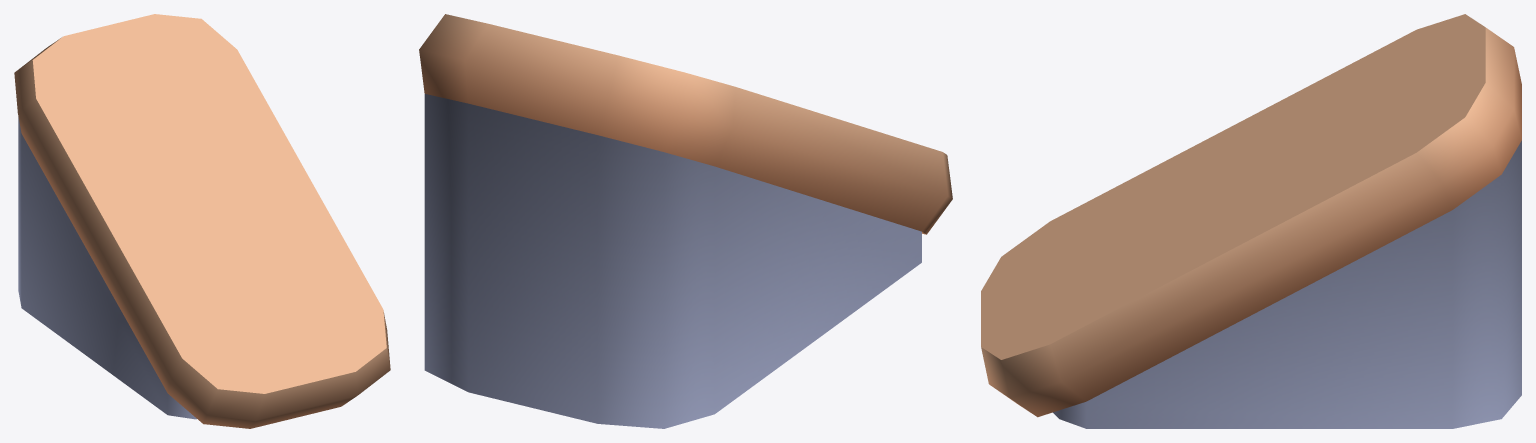
Rendered from block-grass-large-slope-steep-narrow.glb.
The picture shows the model from 3 angles, left to right: view 1: azimuth 30°, elevation 25°; view 2: azimuth 150°, elevation 25°; view 3: azimuth 270°, elevation 25°; orthographic projection. The views are drawn at different scales.
Parts seen in each view (by area): view 1: block-grass-large-slope-steep-narrow; view 2: block-grass-large-slope-steep-narrow; view 3: block-grass-large-slope-steep-narrow.
Part boxes in pixels (box(x1,y1,x2,y2)): block-grass-large-slope-steep-narrow: box(14, 14, 390, 428); block-grass-large-slope-steep-narrow: box(419, 14, 952, 428); block-grass-large-slope-steep-narrow: box(981, 14, 1521, 428).
Bounding box in the file's own units: 1.08 × 1.22 × 1.86.
